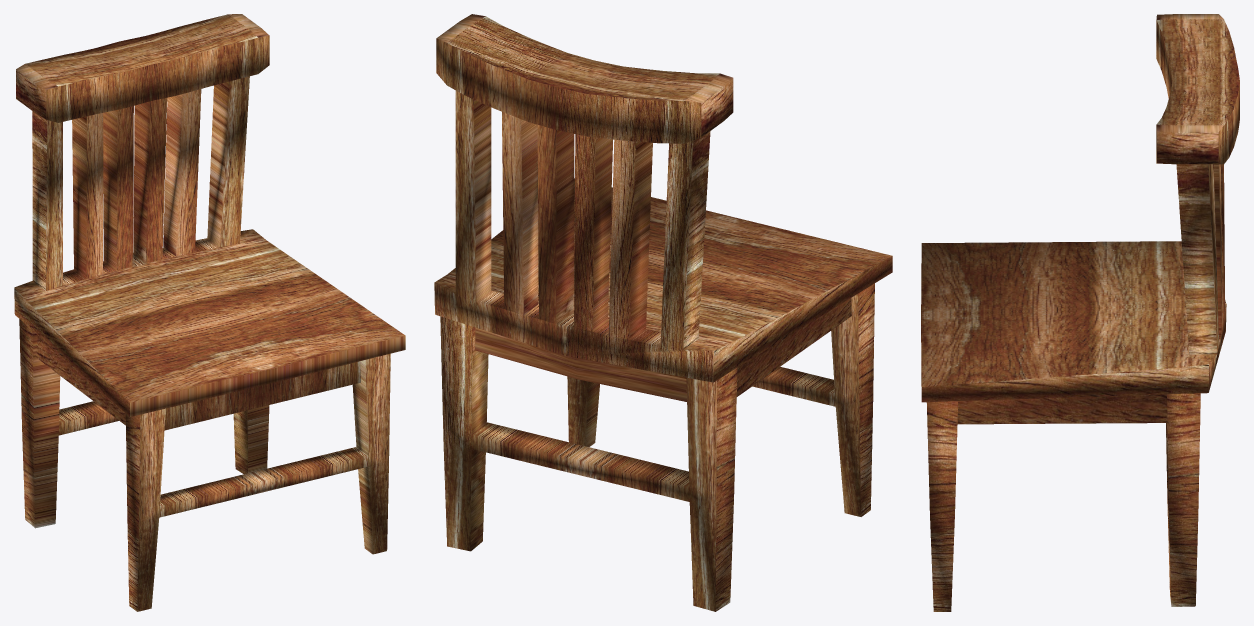
The model's file is Bedroom_chair.glb.
The picture shows the model from 3 angles, left to right: view 1: azimuth 30°, elevation 25°; view 2: azimuth 150°, elevation 25°; view 3: azimuth 270°, elevation 25°; orthographic projection. The views are drawn at different scales.
Visible parts, largest first — view 1: Cube.047; view 2: Cube.047; view 3: Cube.047.
Part boxes in pixels (left/top/right/bottom): Cube.047: left=14, top=14, right=405, bottom=611; Cube.047: left=434, top=14, right=892, bottom=611; Cube.047: left=921, top=14, right=1239, bottom=611.
Bounding box in the file's own units: 0.9429 × 1.45 × 0.8821.
Materials: 1 (1 with a texture image).
